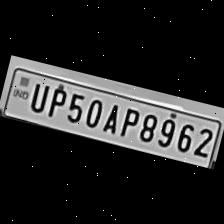0: (81, 92, 107, 129)
2: (189, 121, 215, 158)
5: (61, 86, 88, 124)
6: (171, 117, 196, 153)
8: (132, 107, 160, 145)
9: (152, 112, 178, 149)
A: (98, 98, 124, 136)
P: (41, 81, 68, 121), (114, 102, 142, 140)
U: (23, 76, 51, 114)
